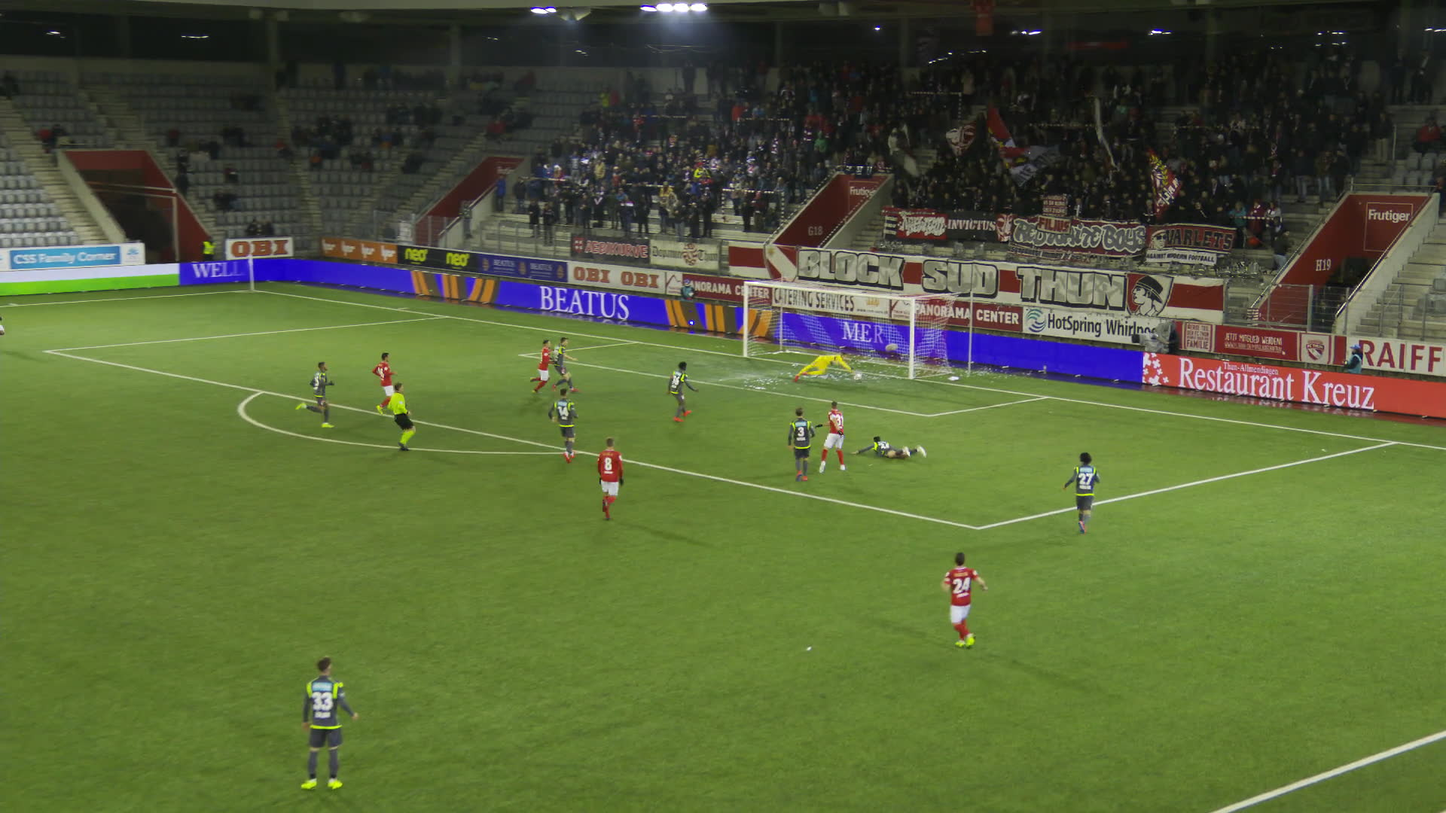ball: (853, 374, 863, 384)
player: (303, 655, 359, 788), (942, 550, 989, 650), (1062, 451, 1100, 537), (295, 358, 336, 426), (548, 388, 582, 463), (596, 434, 625, 520), (815, 399, 847, 471), (789, 405, 817, 480), (849, 433, 923, 460), (667, 359, 697, 421), (793, 349, 853, 379), (522, 338, 554, 392), (548, 335, 576, 392), (372, 350, 398, 406), (0, 306, 11, 338)
referee: (388, 382, 416, 452)
